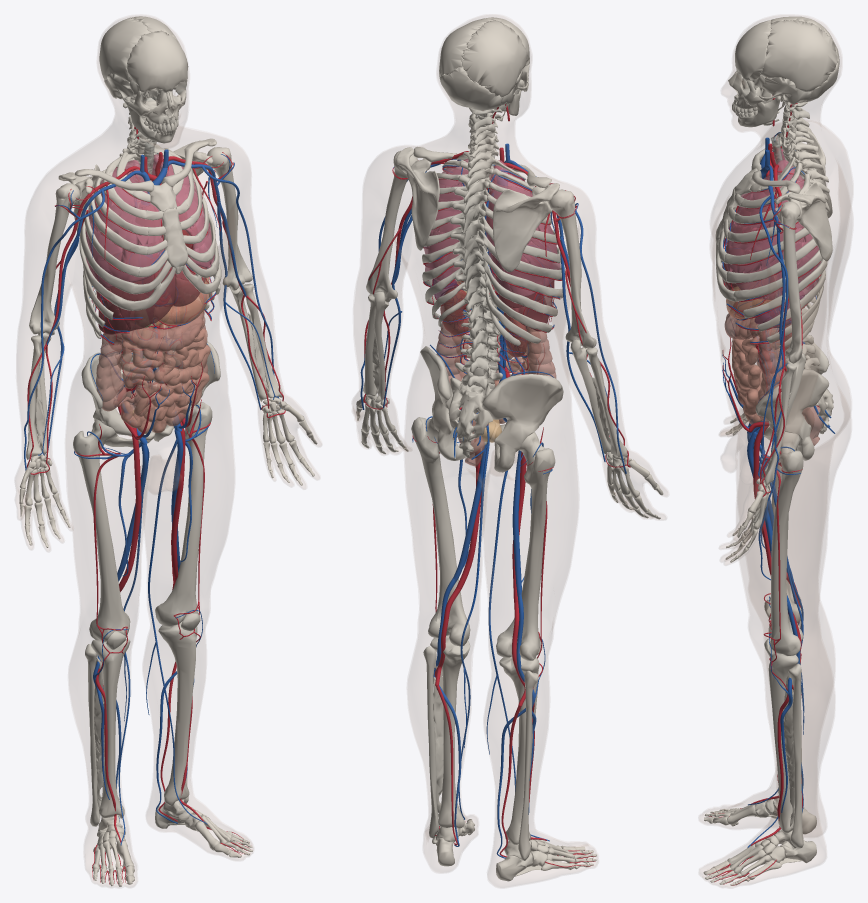
The model's file is anatomy.glb.
The picture shows the model from 3 angles, left to right: view 1: azimuth 30°, elevation 25°; view 2: azimuth 150°, elevation 25°; view 3: azimuth 270°, elevation 25°; orthographic projection. The views are drawn at different scales.
Visible parts, largest first — view 1: skin, small-intestine, FJ3365, large-intestine, FJ3259, right-lung, FJ3282, liver, FJ3200, FJ3387, FJ3368, FJ3152 (+27 smaller); view 2: skin, FJ3365, FJ3152, FJ3259, FJ3380, FJ3384, FJ3282, large-intestine, FJ3368, FJ3279, FJ3288, FJ3393 (+28 smaller); view 3: skin, FJ3274, FJ3259, left-lung, FJ3288, large-intestine, small-intestine, FJ3262, FJ3282, FJ3279, FJ3260, FJ3200 (+35 smaller).
Boxes of the visible parts, x1,y1,x2,y2 form: skin: (15, 15, 321, 887); small-intestine: (117, 320, 210, 433); FJ3365: (73, 419, 130, 641); large-intestine: (96, 301, 208, 436); FJ3259: (155, 402, 212, 626); right-lung: (85, 160, 164, 288); FJ3282: (158, 621, 197, 805); liver: (96, 253, 206, 334); FJ3200: (127, 30, 188, 93); FJ3387: (91, 639, 130, 818); FJ3368: (29, 183, 80, 335); FJ3152: (81, 352, 155, 447); skin: (352, 14, 668, 887); FJ3365: (496, 432, 555, 660); FJ3152: (482, 374, 563, 472); FJ3259: (411, 417, 470, 646); FJ3380: (461, 20, 526, 97); FJ3384: (493, 183, 559, 271); FJ3282: (430, 635, 470, 828); large-intestine: (436, 294, 556, 466); FJ3368: (548, 189, 596, 348); FJ3279: (396, 147, 439, 250); FJ3288: (420, 346, 495, 460); FJ3393: (448, 377, 492, 458); skin: (699, 15, 852, 887); FJ3274: (760, 20, 837, 91); FJ3259: (770, 432, 803, 656); left-lung: (726, 160, 821, 299); FJ3288: (755, 369, 829, 460); large-intestine: (724, 304, 823, 445); small-intestine: (731, 321, 764, 424); FJ3262: (776, 201, 802, 363); FJ3282: (768, 653, 798, 833); FJ3279: (775, 182, 832, 261); FJ3260: (788, 663, 803, 848); FJ3200: (735, 20, 771, 81).
Bounding box in the file's own units: 9.8 × 25.27 × 4.28.
